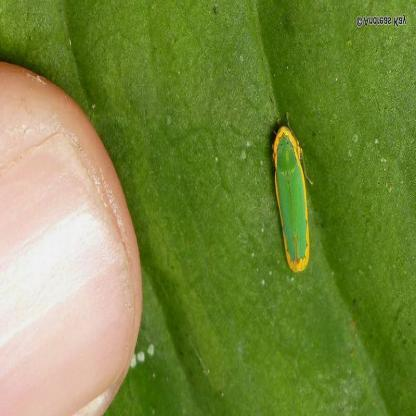green-leafhopper: (267, 125, 320, 273)
